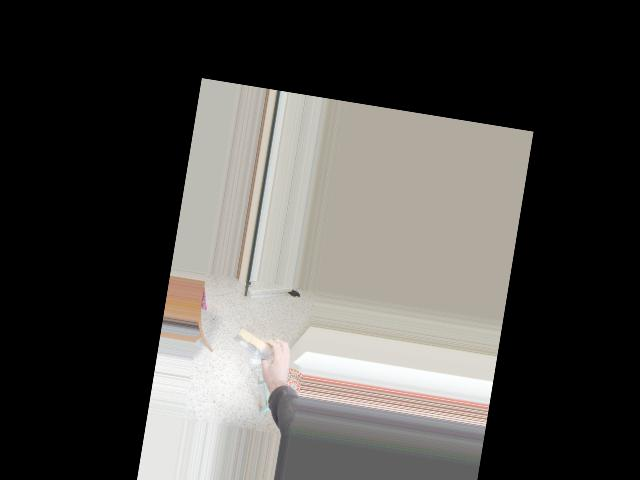cheese: (226, 312, 300, 375)
